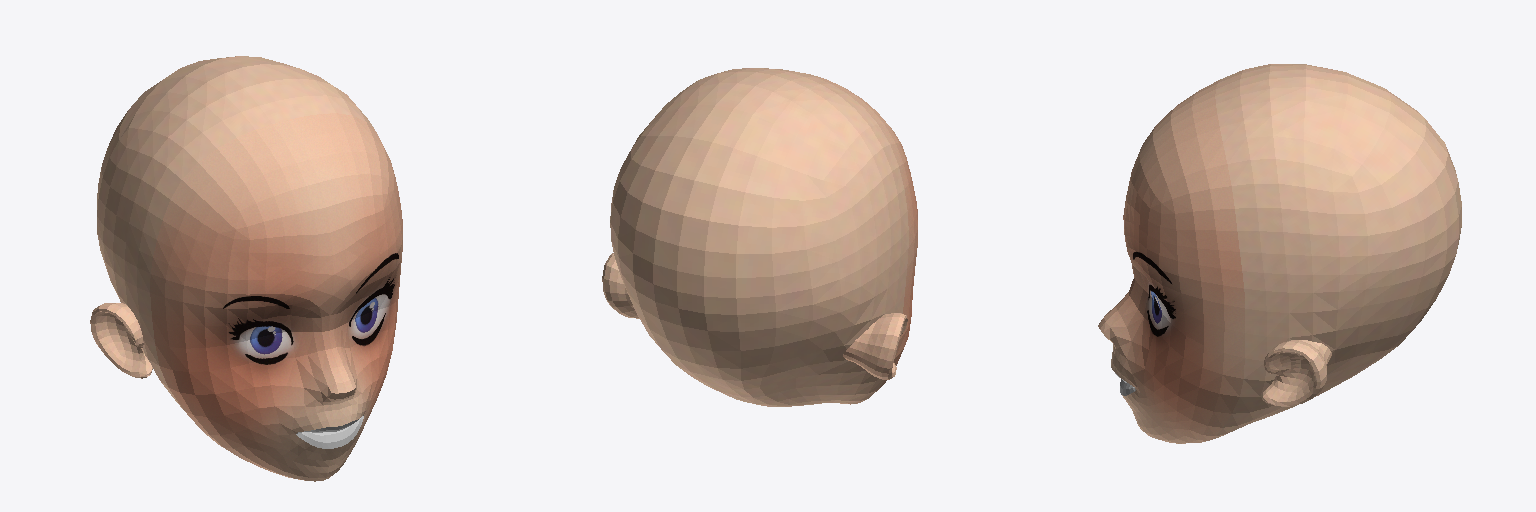
The picture shows the model from 3 angles: view 1: azimuth 30°, elevation 25°; view 2: azimuth 150°, elevation 25°; view 3: azimuth 270°, elevation 25°; orthographic projection.
Parts seen in each view (by area): view 1: head_Mesh.006; view 2: head_Mesh.006; view 3: head_Mesh.006.
Part boxes in pixels (bbox=[...]): head_Mesh.006: bbox=[90, 56, 402, 481]; head_Mesh.006: bbox=[602, 68, 917, 406]; head_Mesh.006: bbox=[1098, 64, 1461, 443].
Size of the model in its own units: 0.2036 by 0.237 by 0.218.
3 materials, 1 textured.